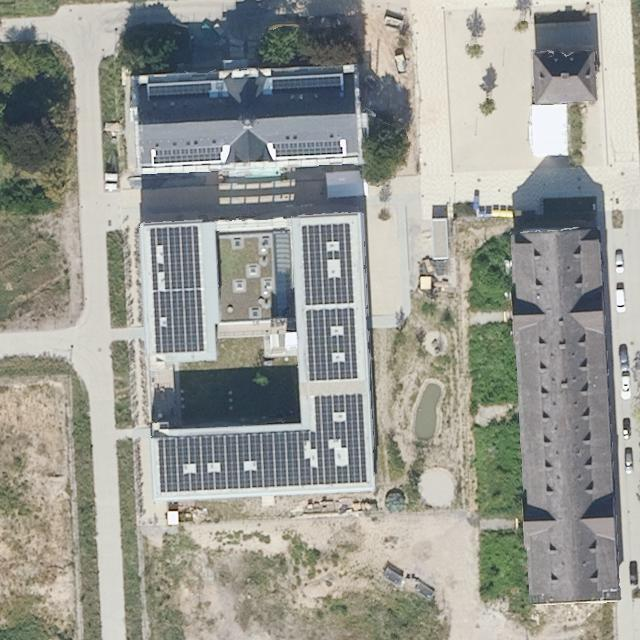PV: (153, 390, 369, 495), (147, 223, 208, 358), (299, 218, 358, 308), (304, 303, 362, 387), (151, 144, 225, 167), (270, 74, 344, 95), (270, 139, 346, 159), (146, 81, 213, 100)
